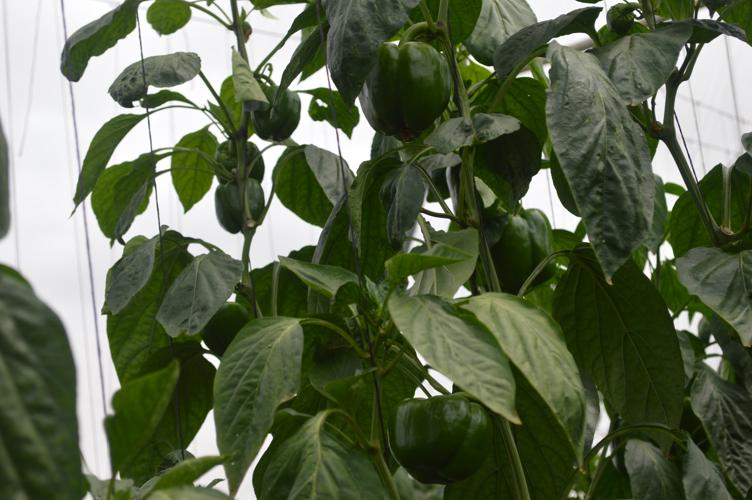BellPepper: (380, 394, 500, 486), (357, 44, 453, 137), (480, 207, 557, 292), (248, 86, 302, 143), (212, 182, 270, 228), (211, 144, 266, 185)
